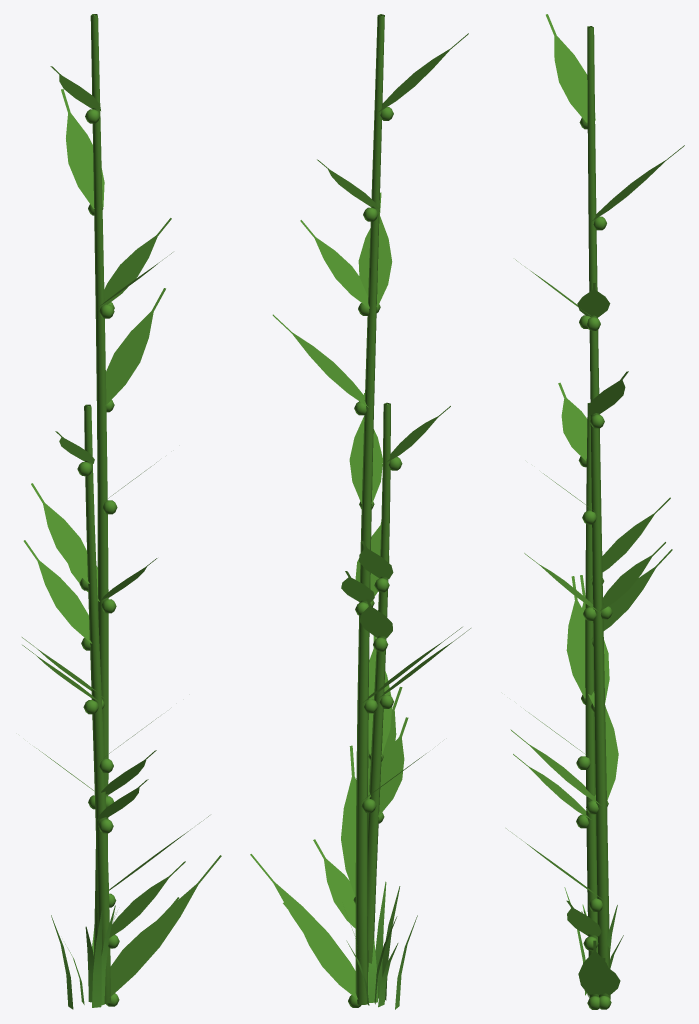
File: aqua_kelp.glb
3 renders of one model, left to right at view 1: azimuth 30°, elevation 25°; view 2: azimuth 150°, elevation 25°; view 3: azimuth 270°, elevation 25°, orthographic. The views are drawn at different scales.
Parts seen in each view (by area): view 1: KelpTall, KelpShort, SeaGrass; view 2: KelpTall, KelpShort, SeaGrass; view 3: KelpTall, KelpShort.
Boxes of the visible parts, x1,y1,x2,y2 form: KelpTall: [22, 14, 209, 989]; KelpShort: [22, 404, 221, 1006]; SeaGrass: [51, 905, 116, 1009]; KelpTall: [272, 14, 468, 1007]; KelpShort: [250, 402, 470, 977]; SeaGrass: [345, 881, 417, 1009]; KelpTall: [506, 14, 684, 1009]; KelpShort: [513, 382, 672, 1009].
Bounding box in the file's own units: 1.25 × 5.64 × 0.9712.
